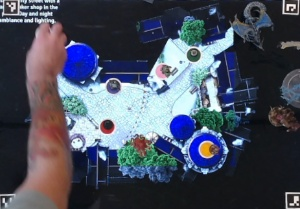green: (183, 45, 203, 66)
pink: (154, 62, 171, 80)
red: (97, 118, 114, 135)
violet: (103, 75, 124, 97)
yellow: (196, 138, 218, 159)
